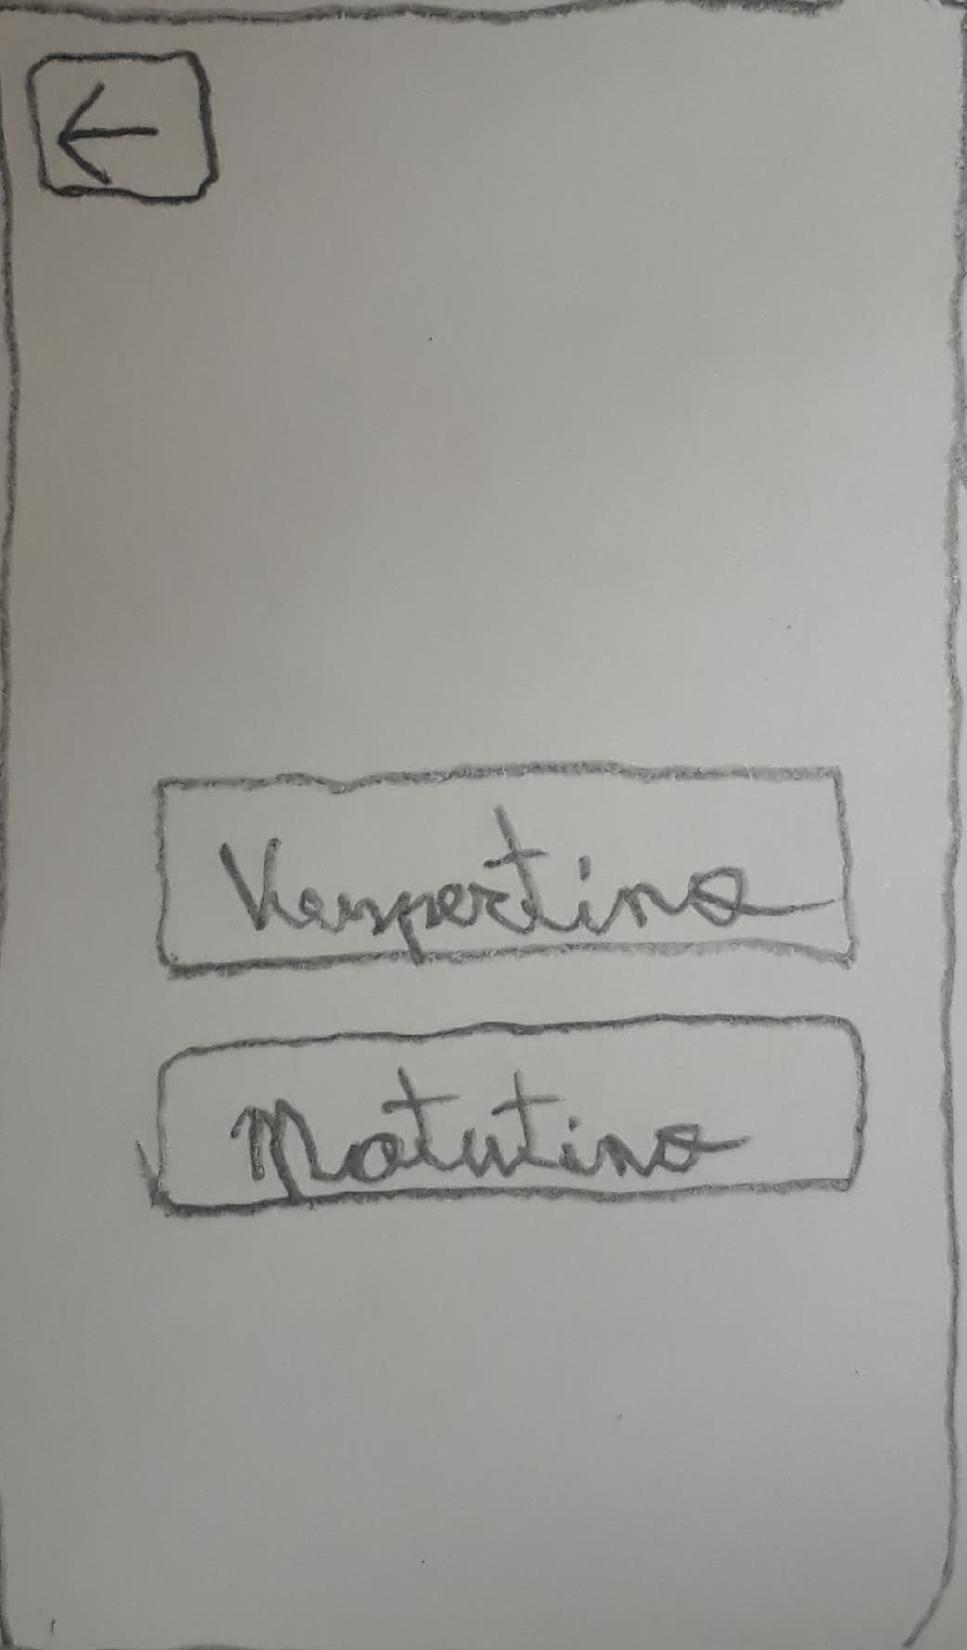Button: (152, 1017, 866, 1220), (153, 767, 858, 971), (26, 49, 219, 204)
Screen: (2, 2, 966, 1647)
